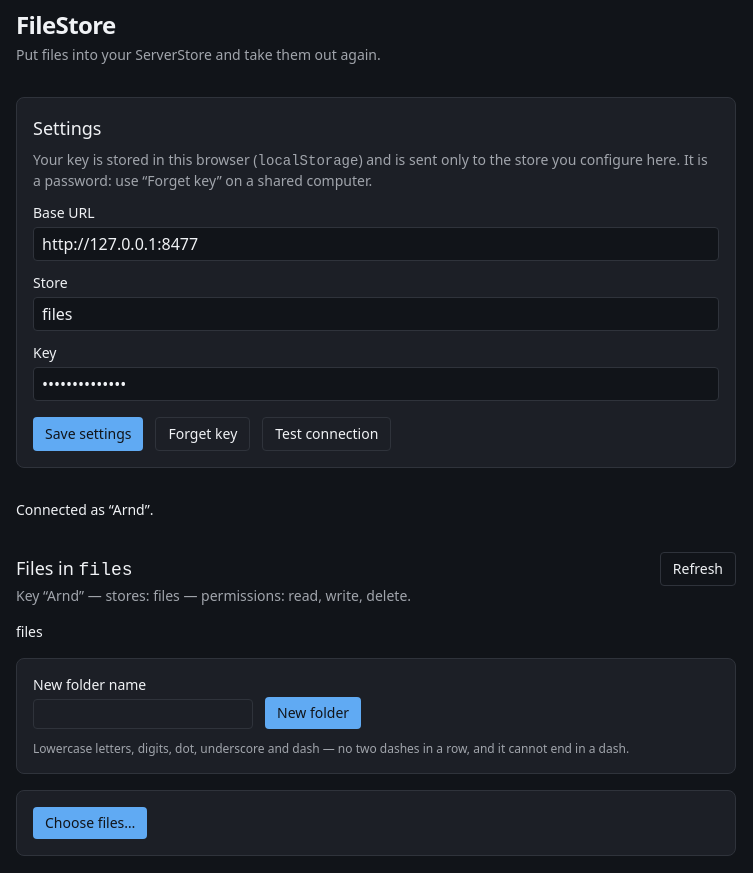
Test: a FAILED test of a DRAFT key redacts THAT key too, not only the stored one
The width and height of the screenshot is (753, 873).
Expected: the text "Connected as “Arnd”." is shown, [16,500,154,519]
Step 1. Type "ssk_STORED_old_credential_111" into the password field labelled "Key" → (376, 384), box [33,367,719,401]
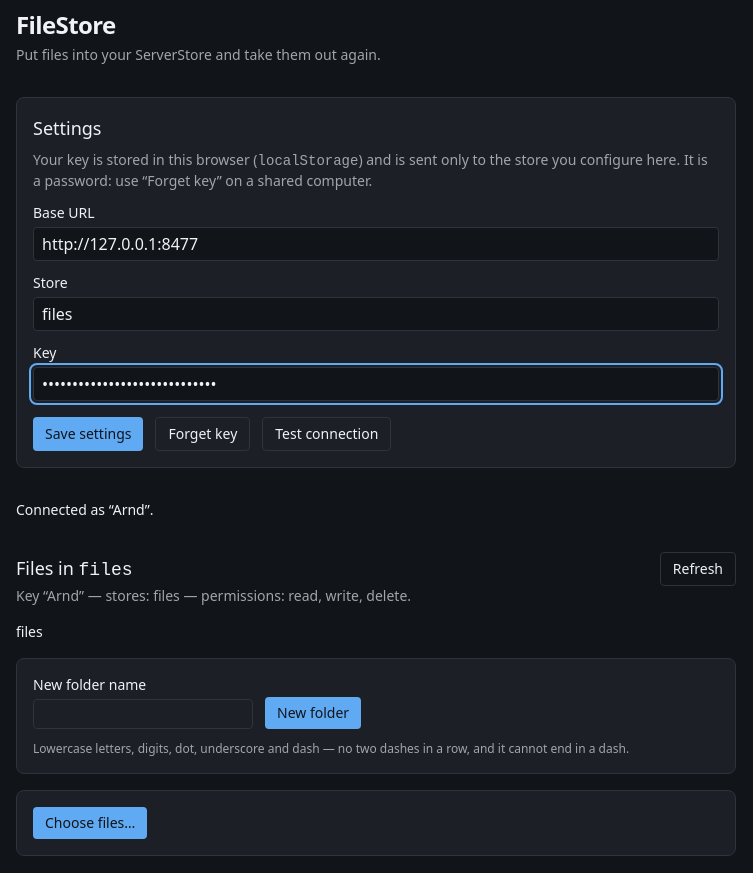
Step 2. Click the button "Test connection" → (327, 434), box [262,417,391,451]
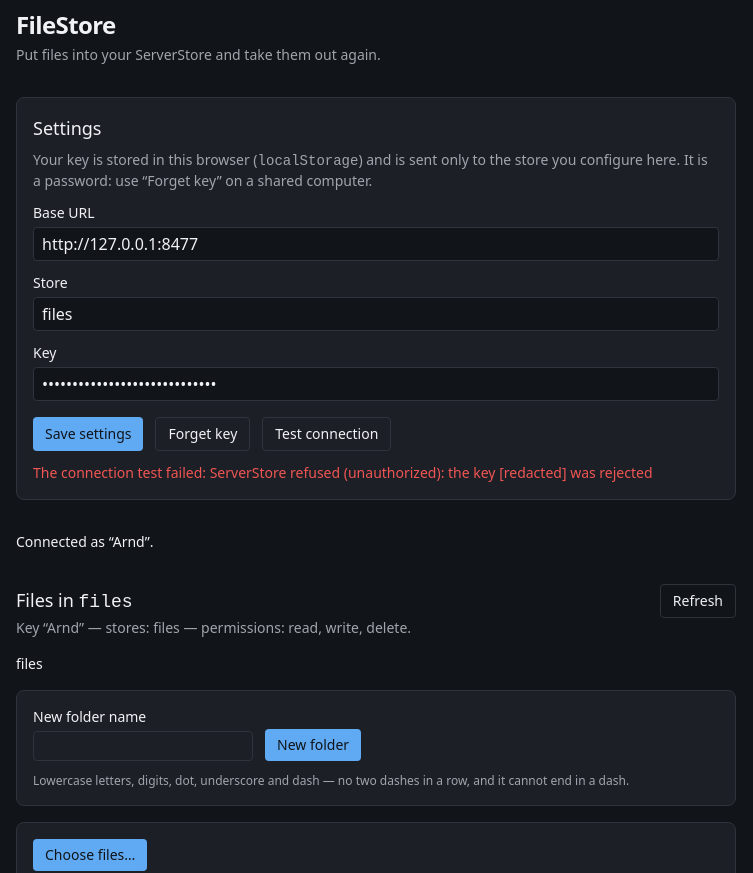
Result: the message shows "the key [redacted] was rejected" at [33,463,652,482]
Result: the message shows "[redacted]" at [33,463,652,482]
